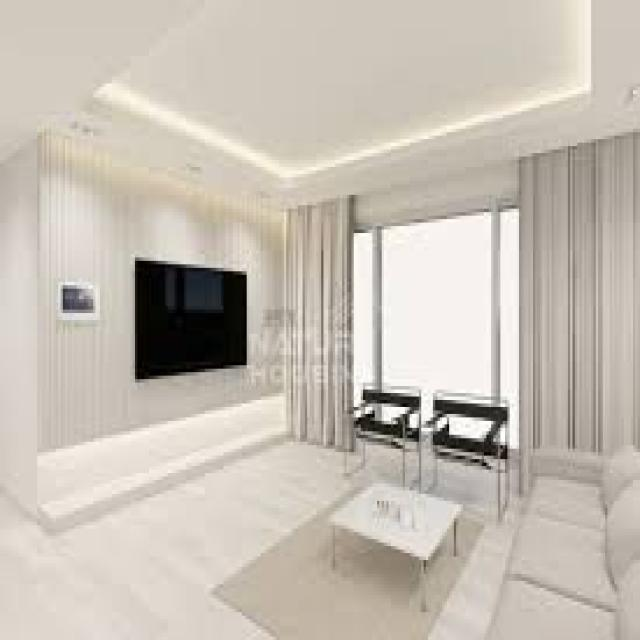Chair: (431, 388, 509, 505), (346, 377, 420, 482)
Sofa: (506, 430, 640, 640)
Table: (324, 478, 469, 604)
tv: (133, 256, 249, 375)
window: (301, 211, 570, 395)
